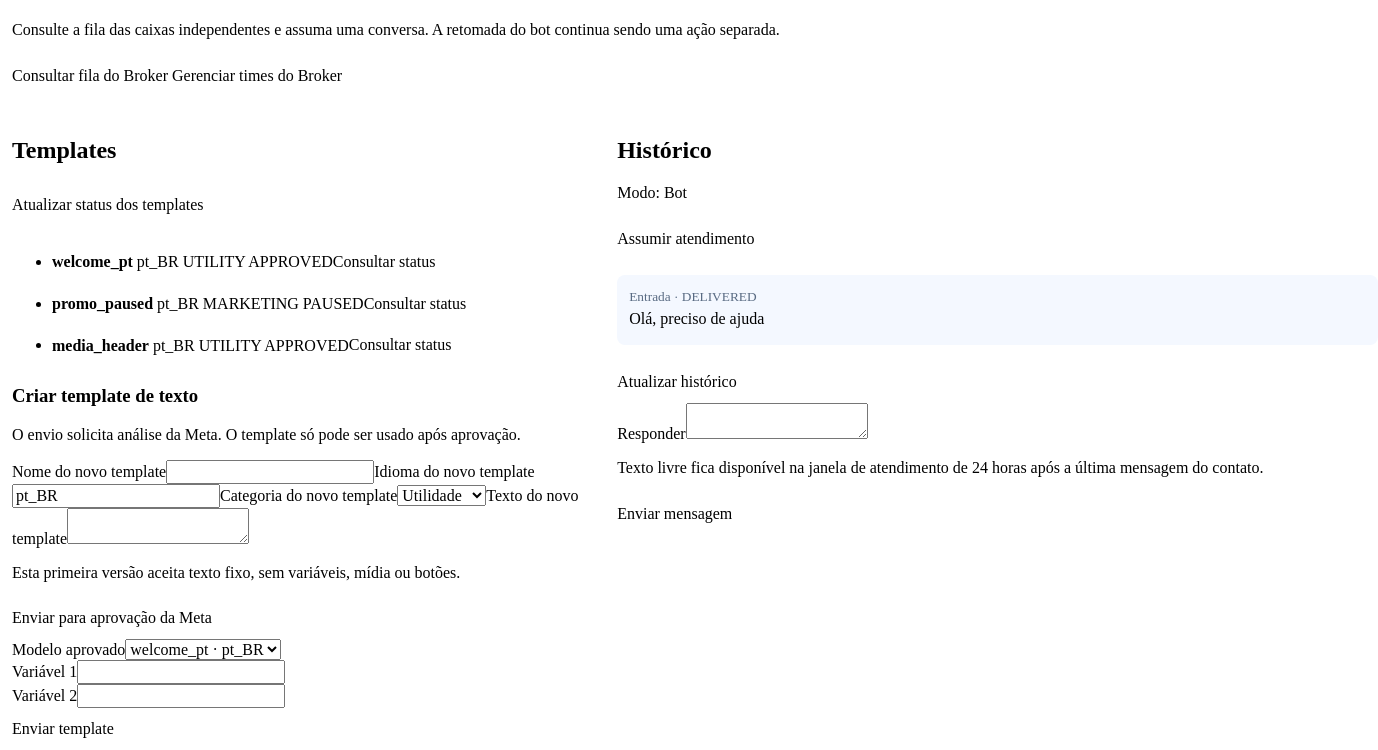
Test case: MessagingPage › refreshes the remote attendance mode with the history without losing the draft or changing attendance
This screenshot has width=1378, height=750.
(page scrolled)
Expected: the text "Olá, preciso de ajuda" is shown, [629,310,764,327]
Type "Resposta em preparação" into the text box labelled "Responder" at {"x": 777, "y": 421}, box [686,403,868,439]
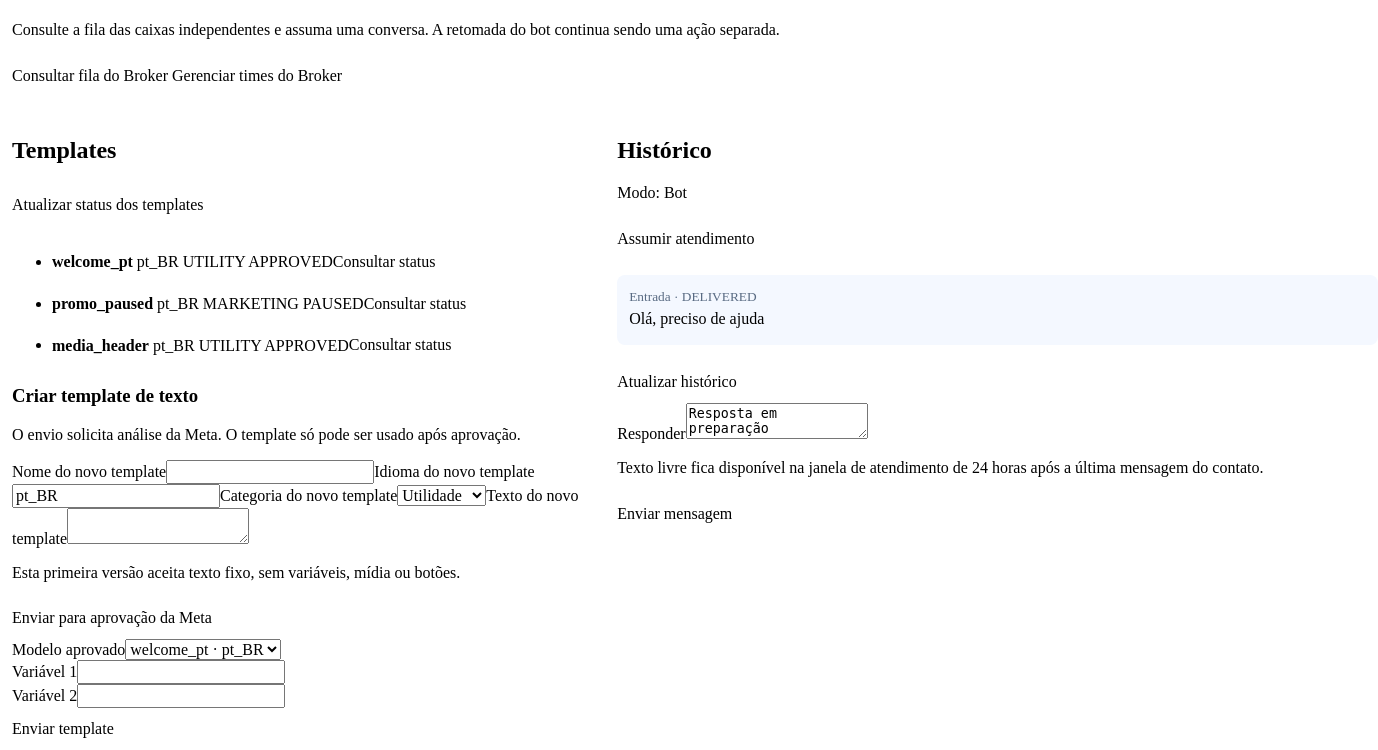
Click the button "Atualizar histórico" at {"x": 677, "y": 382}, box [617,361,737,403]
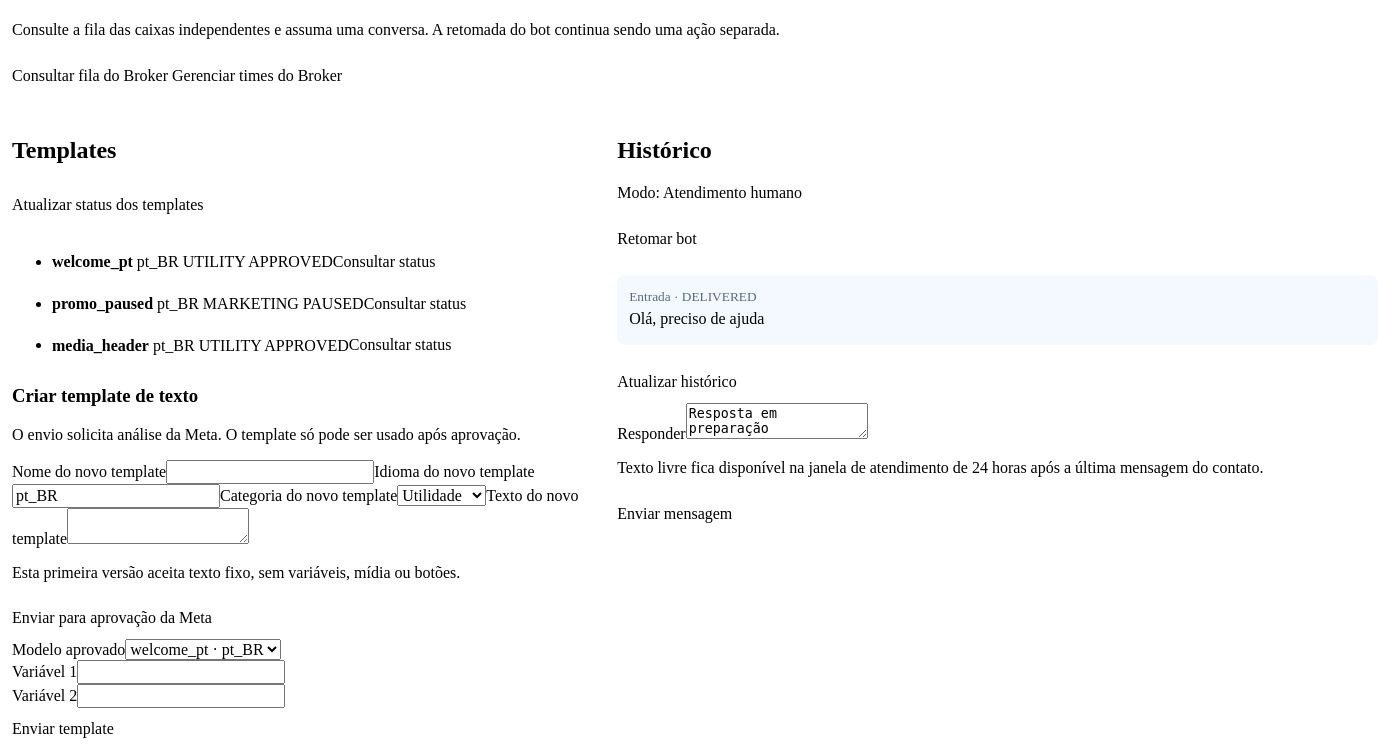
Expected: the button "Retomar bot" is enabled, [617,218,697,259]
Now the text "Modo: Atendimento humano" is shown, box [617,184,802,201]
